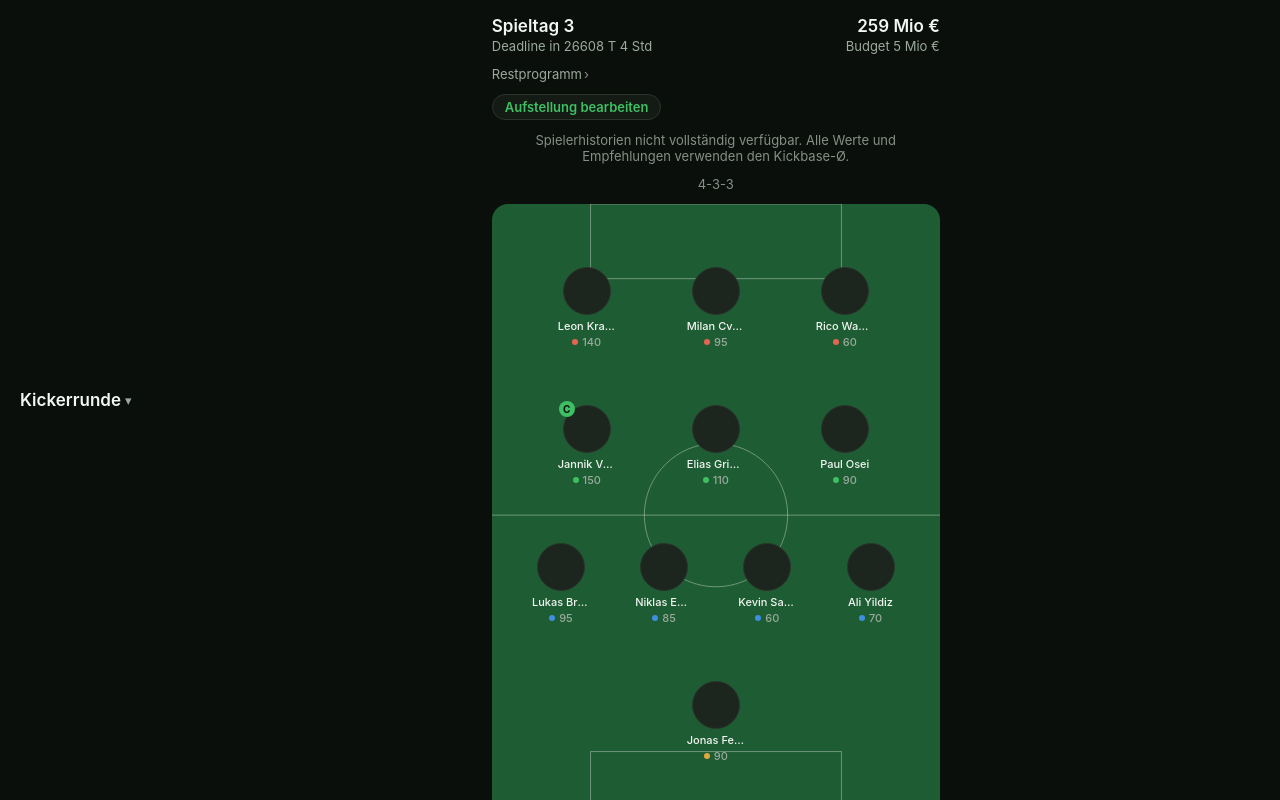
Test: LineupScreen › zeigt die Optimizer-Leiste erst im Bearbeitungsmodus
Check: the button "Optimieren" is not shown
Click the button "Aufstellung bearbeiten" at (577, 107), box x1=492 y1=94 x2=662 y2=120
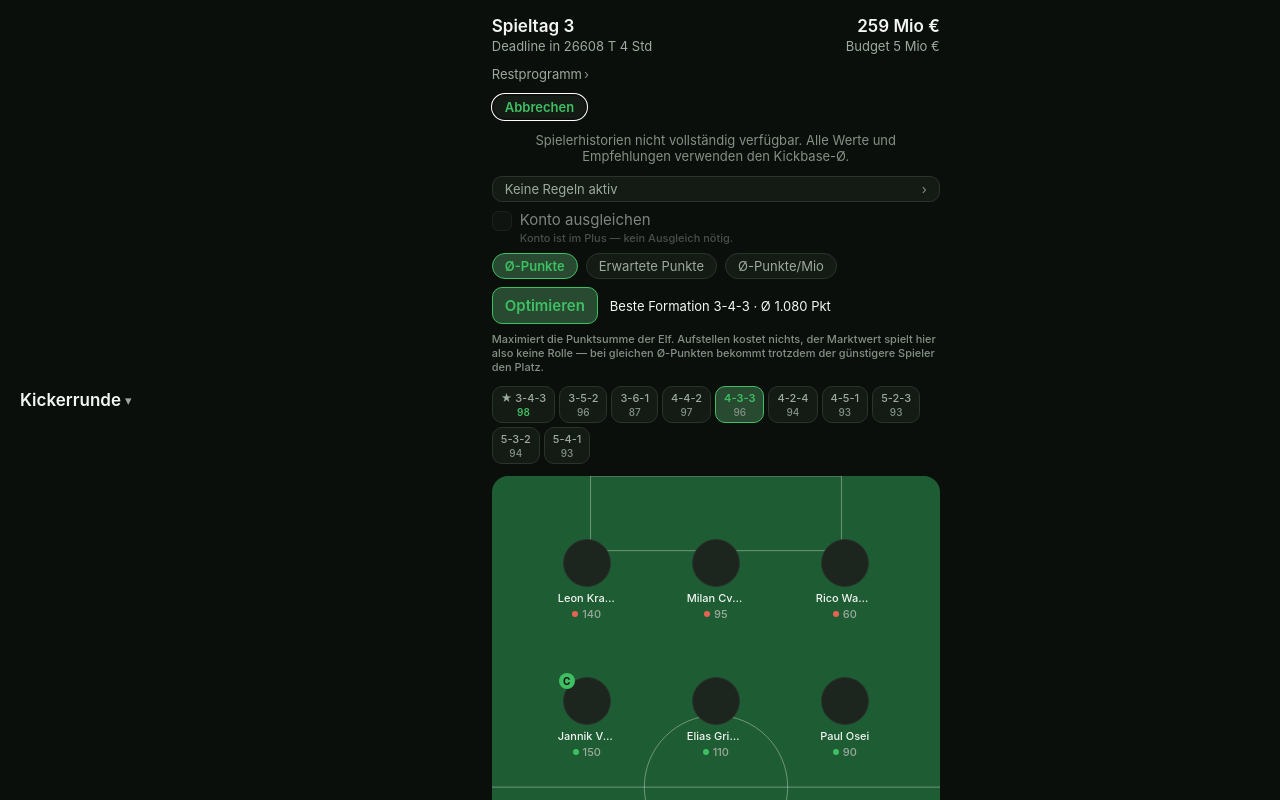
Check: the button "Optimieren" is shown, box x1=492 y1=287 x2=598 y2=324
Check: the button "Abbrechen" is shown, box x1=492 y1=94 x2=587 y2=120
